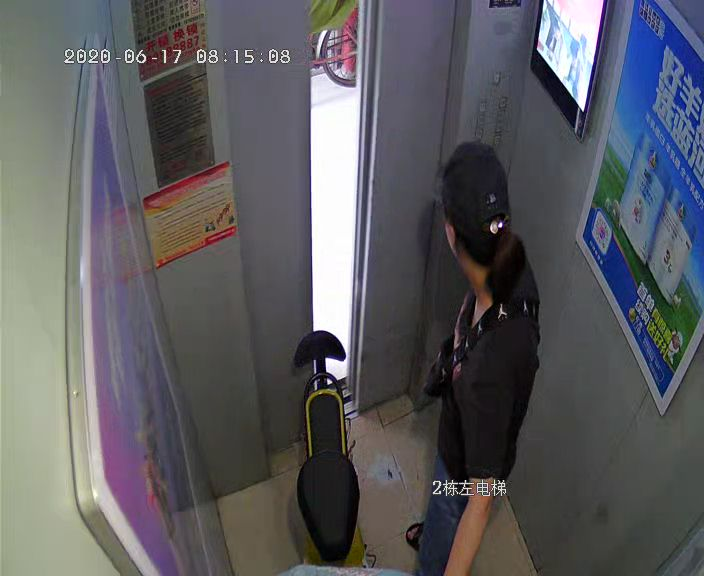Electric-bicycle: (287, 330, 361, 576)
